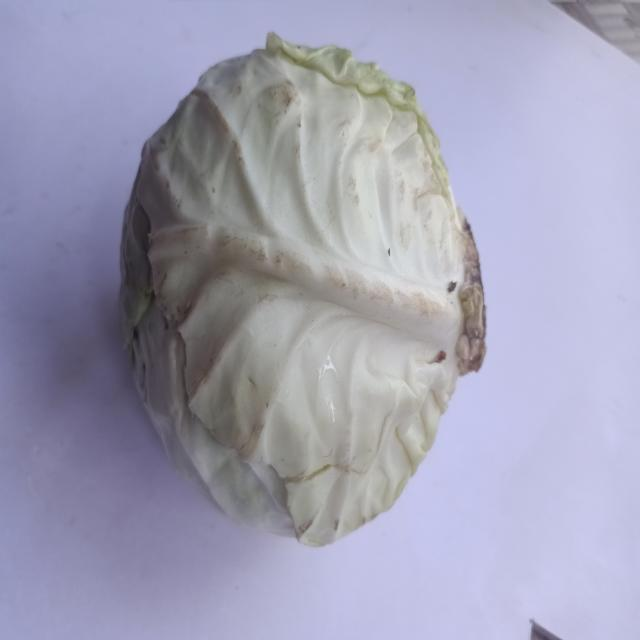Cabbage: (103, 9, 506, 557)
